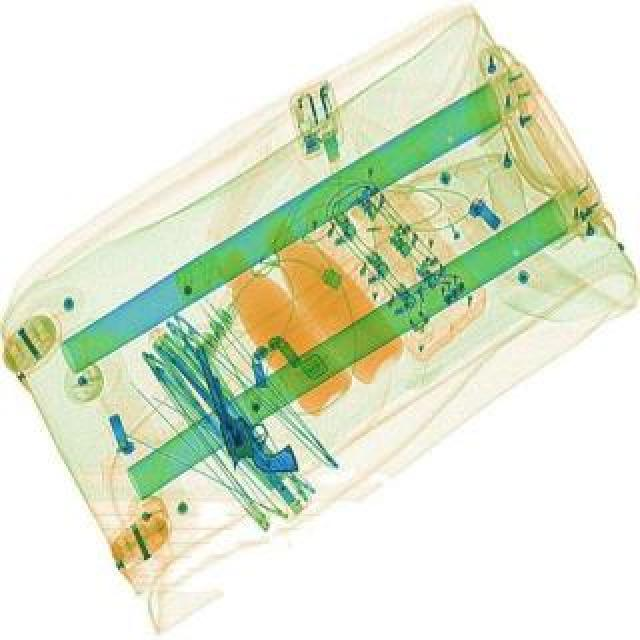gun: (192, 330, 296, 482)
